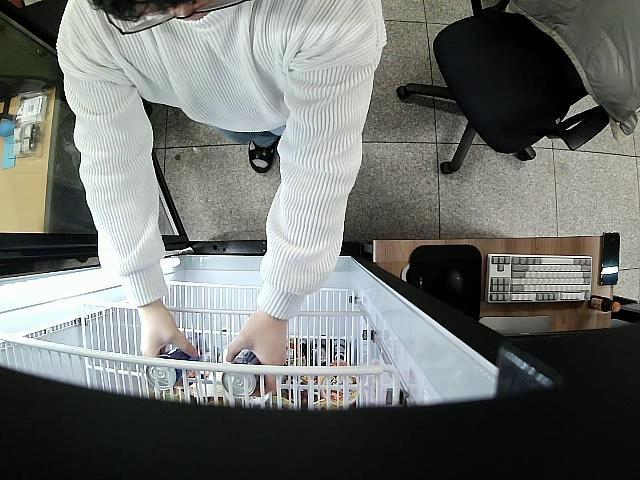16_hot6: (146, 346, 198, 389), (222, 350, 264, 396)
